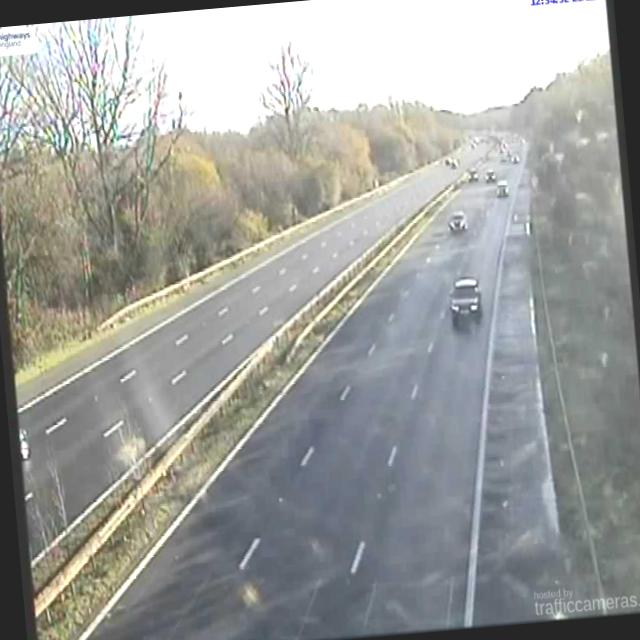foliage: (0, 15, 463, 369), (519, 51, 640, 595), (14, 15, 185, 252)
